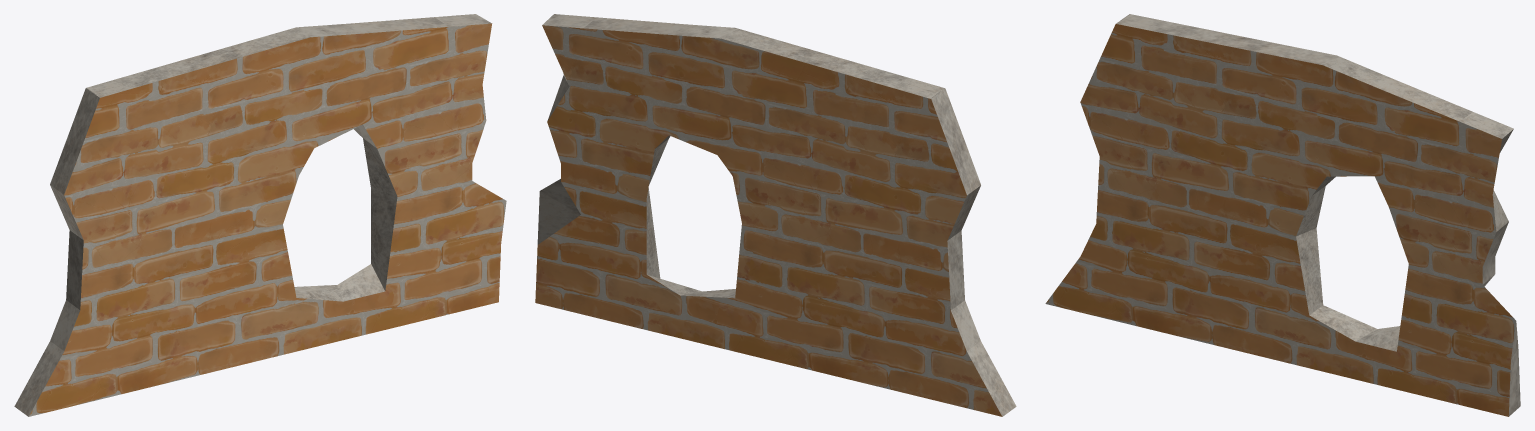
File: OldRuins_V5.fbx
3 renders of one model, left to right at view 1: azimuth 30°, elevation 25°; view 2: azimuth 150°, elevation 25°; view 3: azimuth 330°, elevation 25°, orthographic.
Visible parts, largest first — view 1: OldRuins_V5; view 2: OldRuins_V5; view 3: OldRuins_V5.
Part boxes in pixels (left/top/right/bottom): OldRuins_V5: left=14, top=14, right=506, bottom=416; OldRuins_V5: left=535, top=14, right=1016, bottom=416; OldRuins_V5: left=1045, top=14, right=1520, bottom=416.
Size of the model in its own units: 996 by 619 by 51.29.
Materials: 2 (2 with a texture image).
